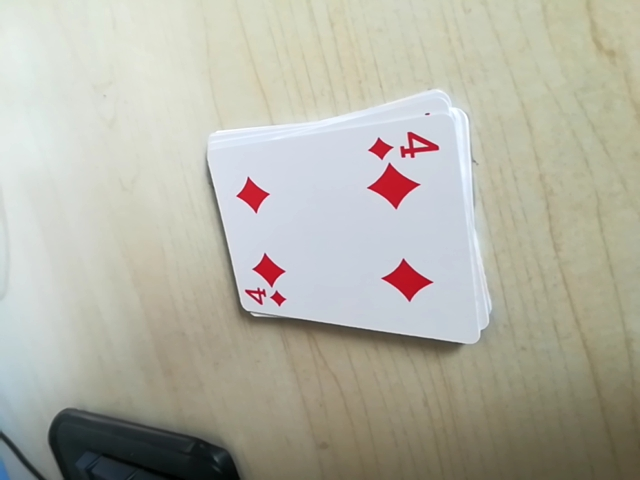fk 4: (369, 124, 446, 165), (238, 281, 291, 314)
